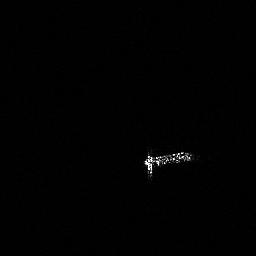ship: (144, 146, 201, 180)
